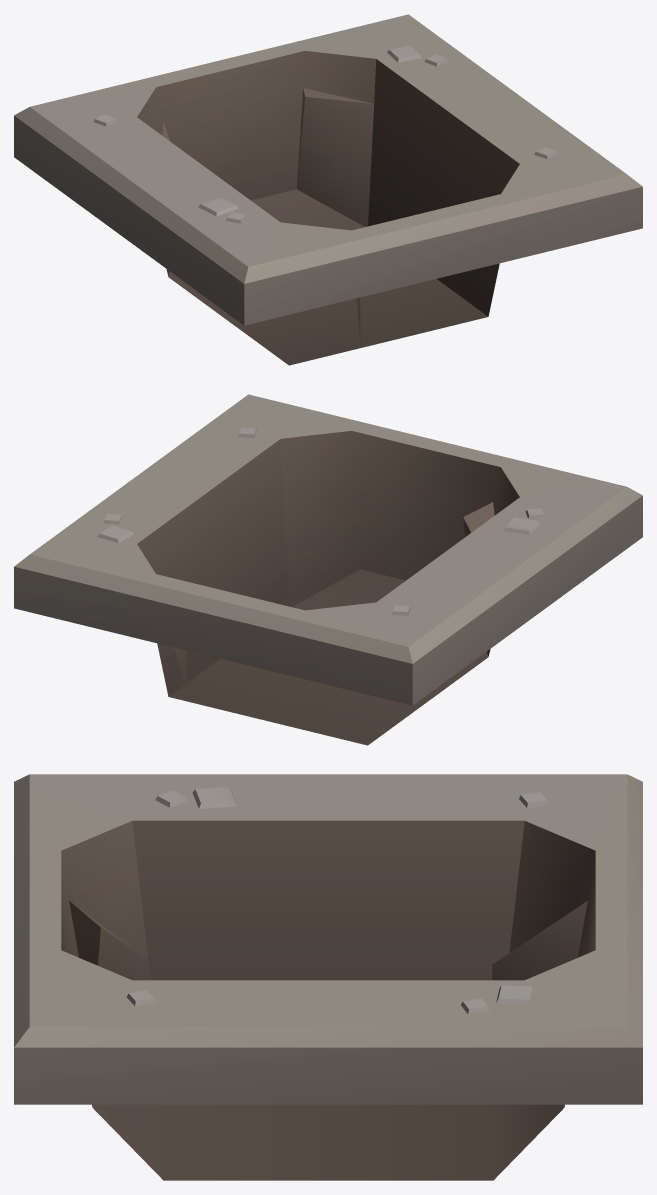
The picture shows the model from 3 angles, top to bottom: view 1: azimuth 30°, elevation 25°; view 2: azimuth 150°, elevation 25°; view 3: azimuth 270°, elevation 25°; orthographic projection. The views are drawn at different scales.
Visible parts, largest first — view 1: floor_dirt_grave; view 2: floor_dirt_grave; view 3: floor_dirt_grave.
Boxes of the visible parts, x1,y1,x2,y2 form: floor_dirt_grave: (14, 14, 642, 365); floor_dirt_grave: (14, 394, 642, 745); floor_dirt_grave: (14, 774, 642, 1180).
Size of the model in its own units: 4 by 1.53 by 4.
Materials: 1 (1 with a texture image).
